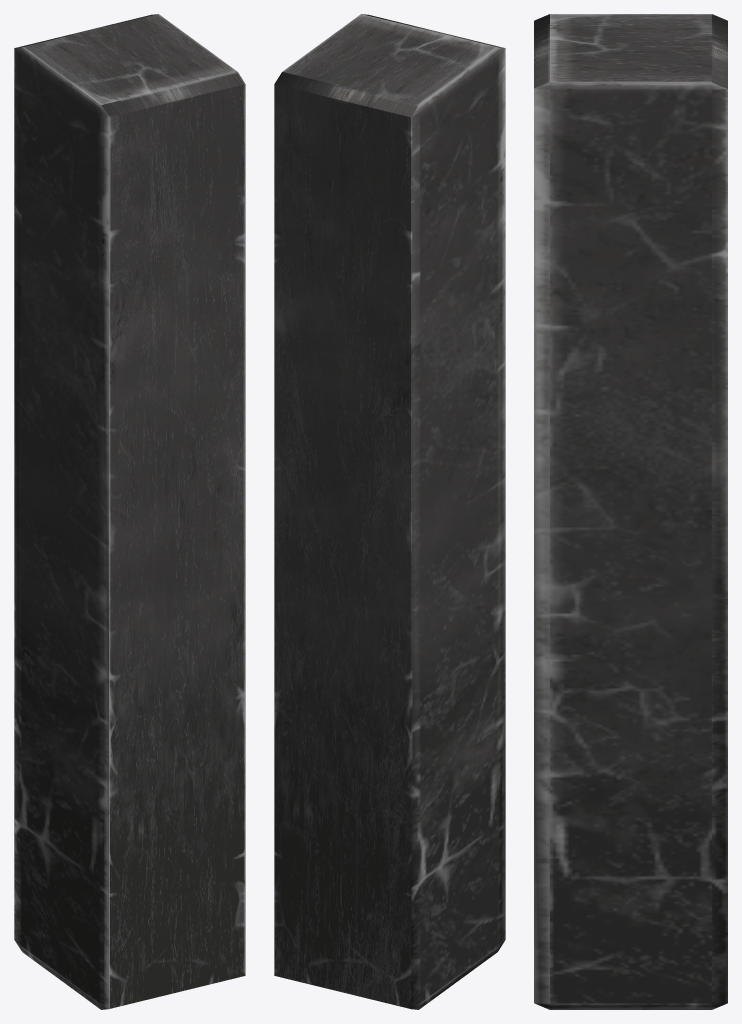
The model's file is Coluna do cemiterio.fbx.
3 renders of one model, left to right at view 1: azimuth 30°, elevation 25°; view 2: azimuth 150°, elevation 25°; view 3: azimuth 270°, elevation 25°, orthographic. The views are drawn at different scales.
Parts seen in each view (by area): view 1: Cube.003; view 2: Cube.003; view 3: Cube.003.
Part boxes in pixels (x1=…): Cube.003: x1=14, y1=14, x2=245, y2=1009; Cube.003: x1=274, y1=14, x2=505, y2=1009; Cube.003: x1=534, y1=14, x2=727, y2=1009.
Bounding box in the file's own units: 40.66 × 253 × 47.92.
